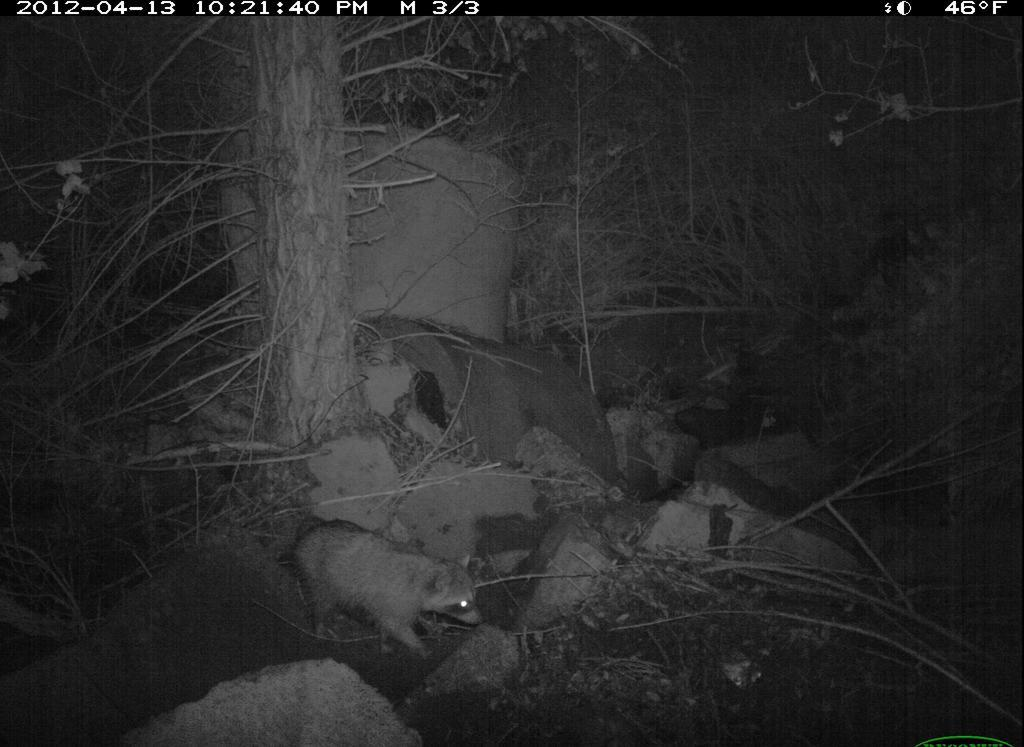raccoon: (287, 509, 513, 656)
